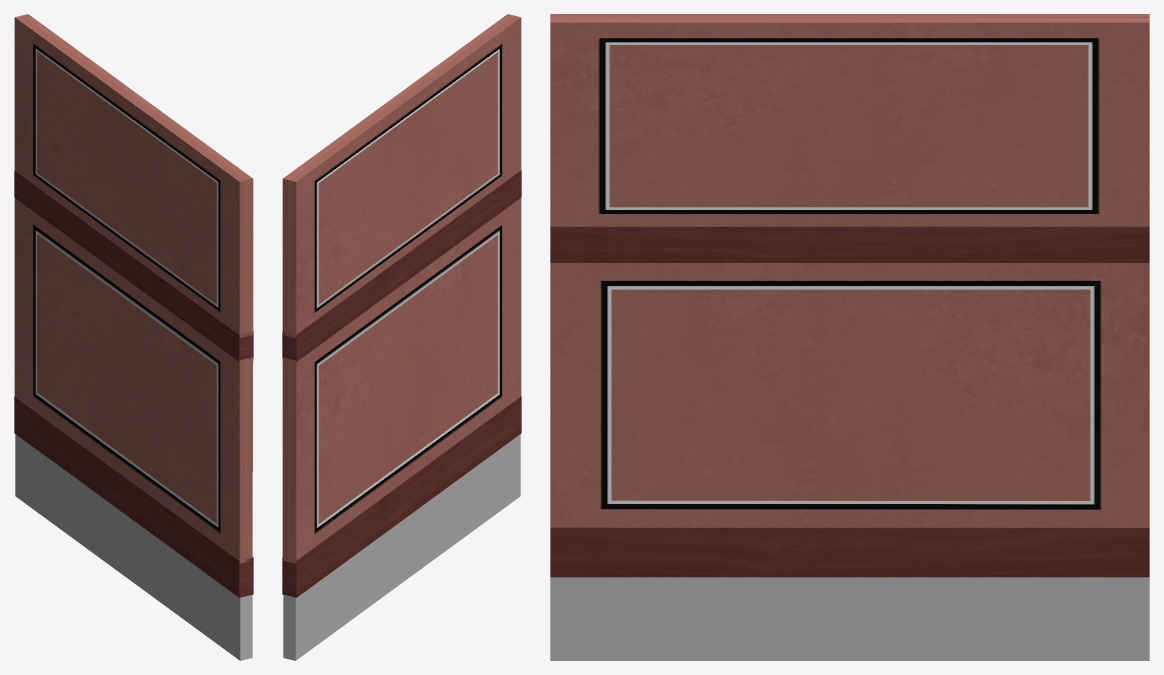
The model's file is SM_Wall03D.fbx.
3 renders of one model, left to right at view 1: azimuth 30°, elevation 25°; view 2: azimuth 150°, elevation 25°; view 3: azimuth 270°, elevation 25°, orthographic. The views are drawn at different scales.
Parts seen in each view (by area): view 1: SM_Wall03D; view 2: SM_Wall03D; view 3: SM_Wall03D.
Boxes of the visible parts, x1,y1,x2,y2 form: SM_Wall03D: [14, 14, 253, 660]; SM_Wall03D: [282, 14, 521, 660]; SM_Wall03D: [550, 14, 1149, 660].
Size of the model in its own units: 8.99 by 245 by 288.
